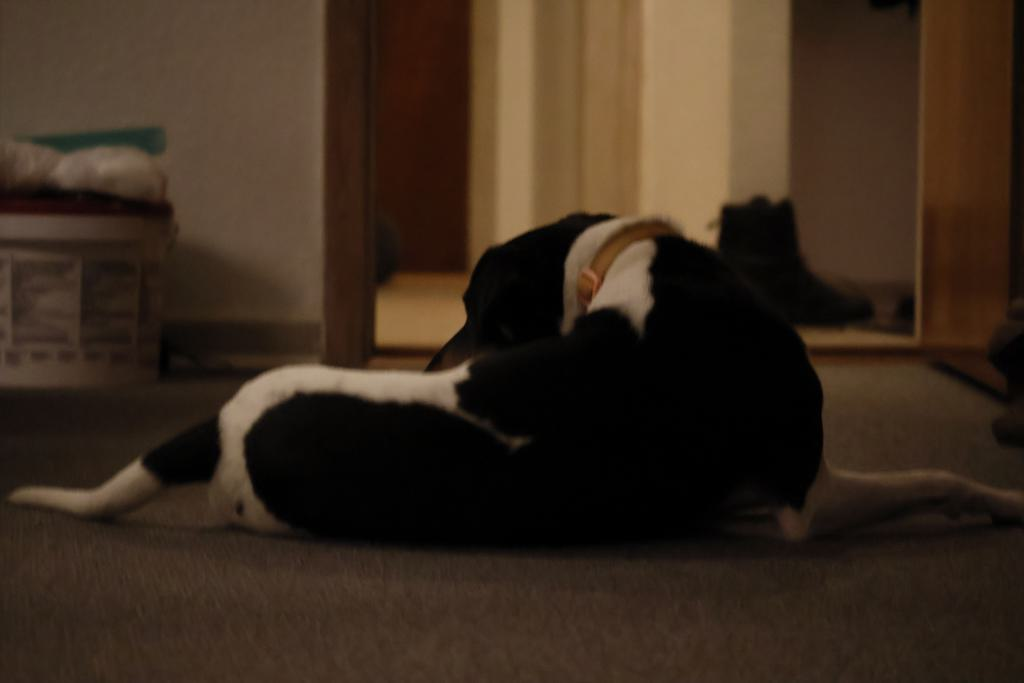Dog: (6, 200, 1024, 559)
